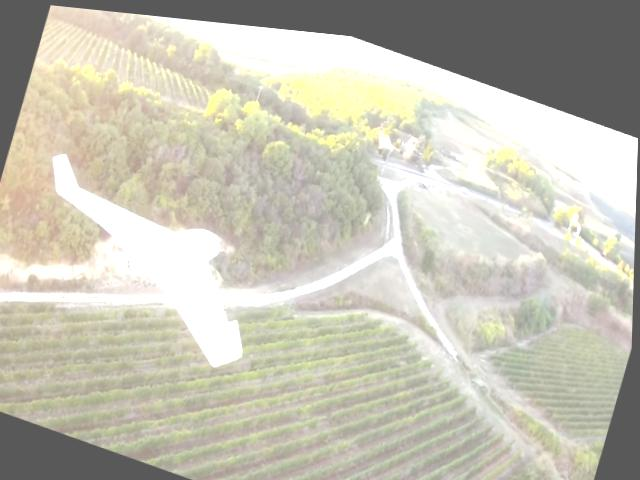plane: (14, 144, 281, 372)
